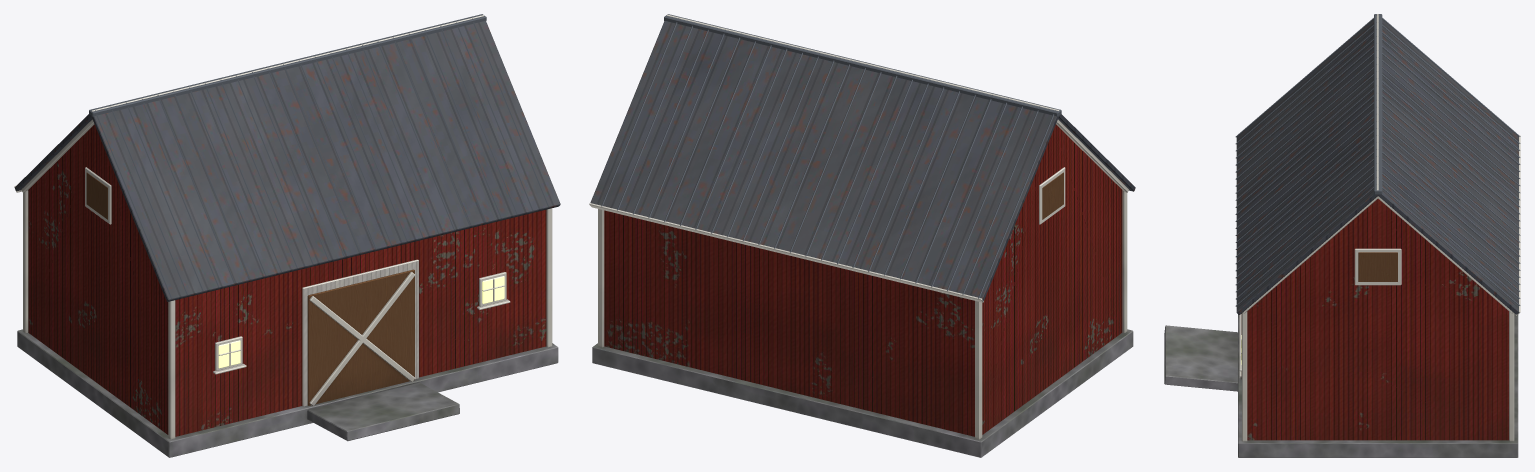
Rendered from lada_tex.glb.
3 views of the same model, side by side, from view 1: azimuth 30°, elevation 25°; view 2: azimuth 150°, elevation 25°; view 3: azimuth 270°, elevation 25° (orthographic). The views are drawn at different scales.
Visible parts, largest first — view 1: lada; view 2: lada; view 3: lada.
Boxes of the visible parts, <box> form: lada: <box>14,14,560,457</box>; lada: <box>589,14,1135,457</box>; lada: <box>1164,14,1520,457</box>.
Bounding box in the file's own units: 12.55 × 8.9 × 10.68.
Materials: 8 (6 with a texture image).
